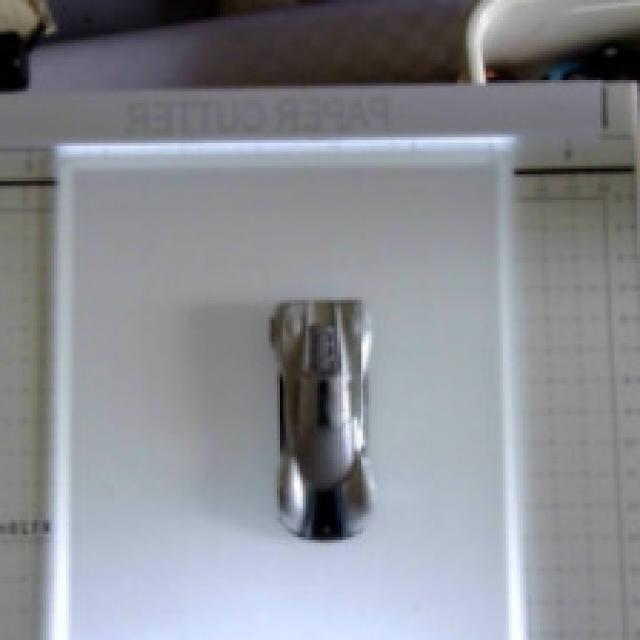Grey Car: (207, 257, 418, 575)
